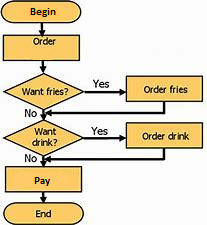arrow: (45, 146, 167, 163), (83, 87, 127, 96), (83, 134, 127, 142), (39, 189, 49, 203), (38, 20, 46, 37), (39, 59, 48, 74), (39, 154, 48, 166), (41, 108, 48, 121)
decision: (2, 73, 85, 110), (2, 119, 83, 155)
process: (124, 120, 204, 151), (4, 164, 84, 194), (1, 33, 82, 62), (125, 74, 204, 103)
terminator: (1, 1, 83, 25), (2, 201, 86, 224)
text: (31, 127, 60, 148), (141, 131, 190, 142), (21, 85, 69, 96), (142, 84, 189, 95), (29, 6, 56, 18), (31, 35, 57, 47), (91, 125, 109, 137), (92, 78, 111, 89), (33, 175, 51, 186), (23, 108, 39, 119), (35, 209, 53, 218), (23, 153, 39, 163)
